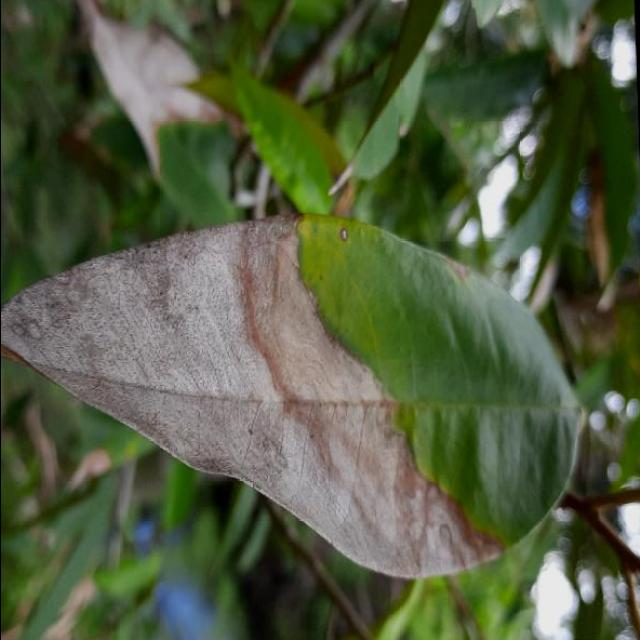Leaf Blight: (0, 187, 602, 609)
